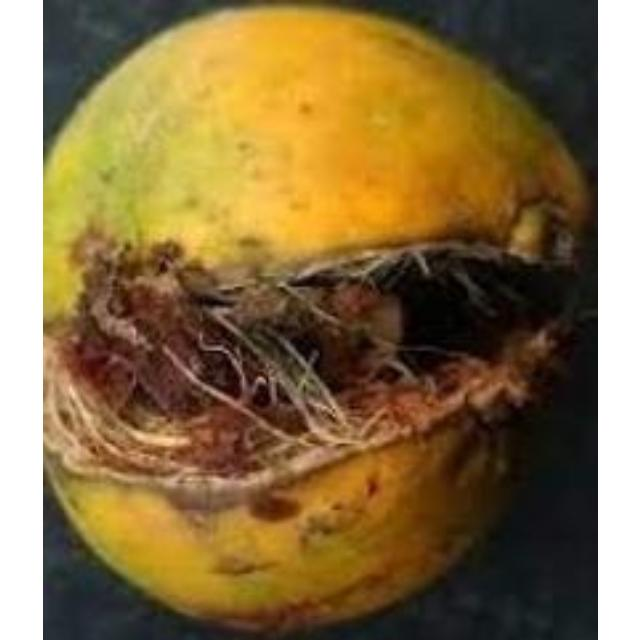damaged: (42, 3, 594, 637)
